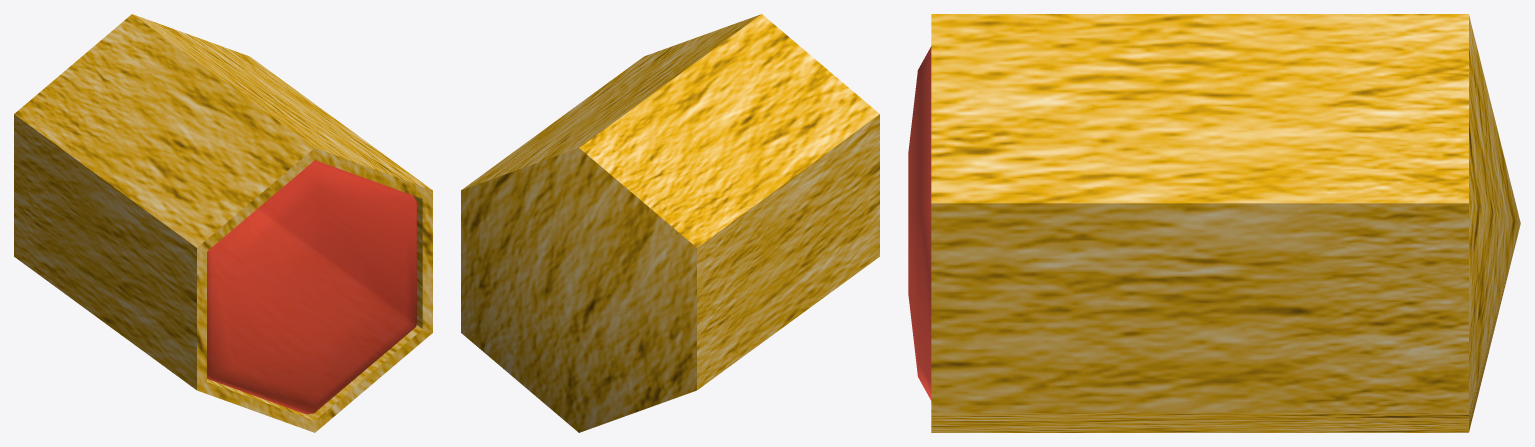
Rendered from cellRoyal.fbx.
The picture shows the model from 3 angles, left to right: view 1: azimuth 30°, elevation 25°; view 2: azimuth 150°, elevation 25°; view 3: azimuth 270°, elevation 25°; orthographic projection. The views are drawn at different scales.
Parts seen in each view (by area): view 1: Cylinder, Cylinder.001; view 2: Cylinder; view 3: Cylinder, Cylinder.001.
Part boxes in pixels (left/top/right/bottom): Cylinder: left=14, top=14, right=432, bottom=432; Cylinder.001: left=207, top=160, right=416, bottom=414; Cylinder: left=461, top=14, right=879, bottom=432; Cylinder: left=931, top=14, right=1520, bottom=432; Cylinder.001: left=908, top=46, right=931, bottom=400.
Bounding box in the file's own units: 189 × 219 × 290.
